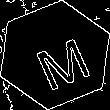M_NW: (21, 23, 89, 87)
